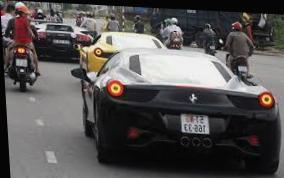License_Plate: (177, 113, 211, 135), (53, 39, 71, 46), (15, 59, 29, 67), (238, 65, 248, 73), (210, 45, 215, 49)
